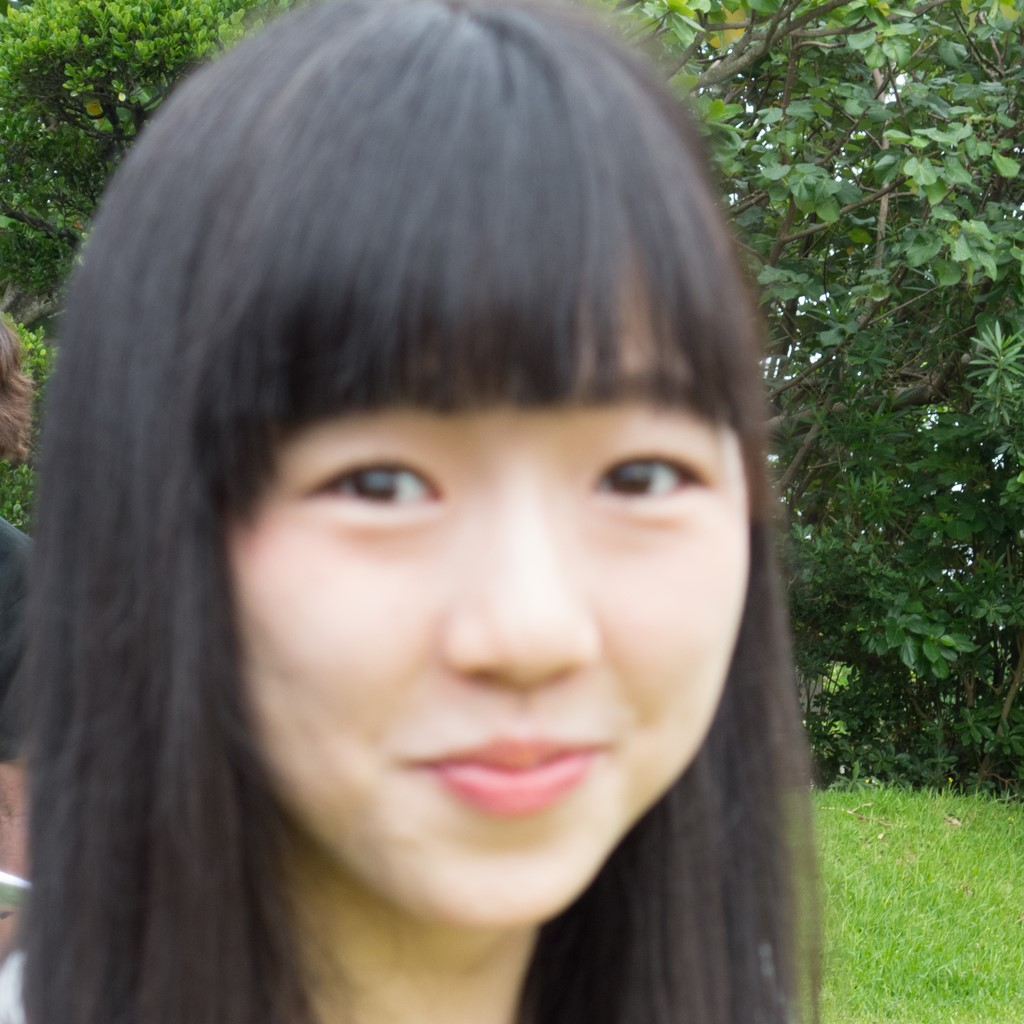sin_mascara: (205, 282, 765, 923)
